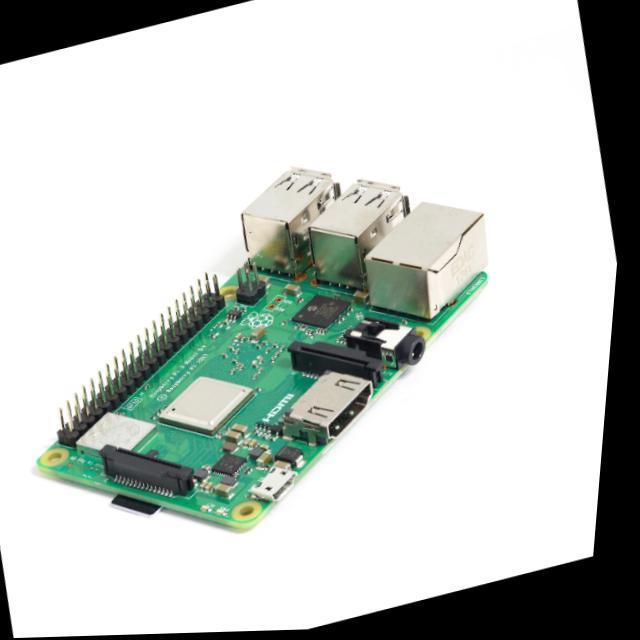Raspberry Pi 3 B-: (37, 169, 489, 529), (39, 169, 488, 530)
